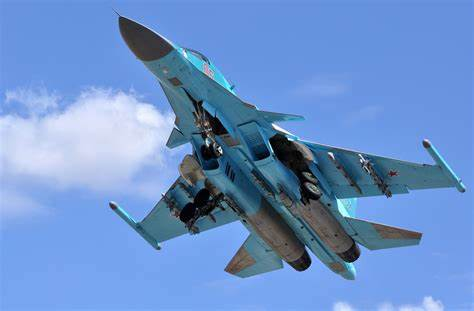Aeronef_militaire: (99, 5, 474, 289)
